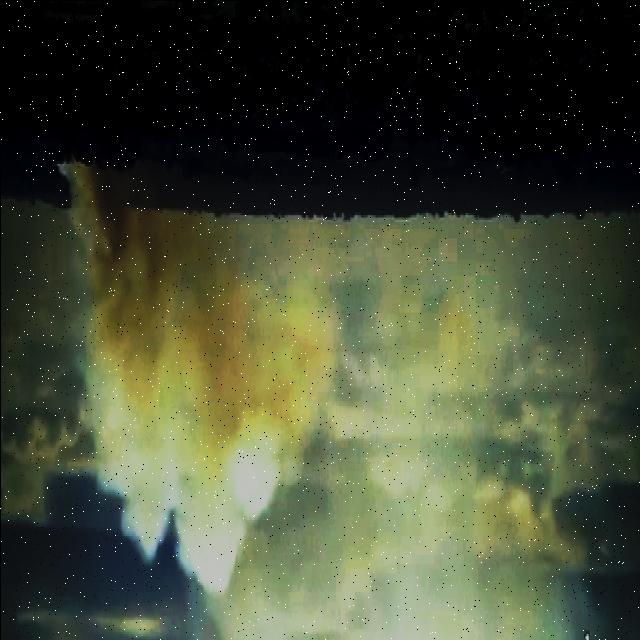asap: (46, 134, 350, 611)
